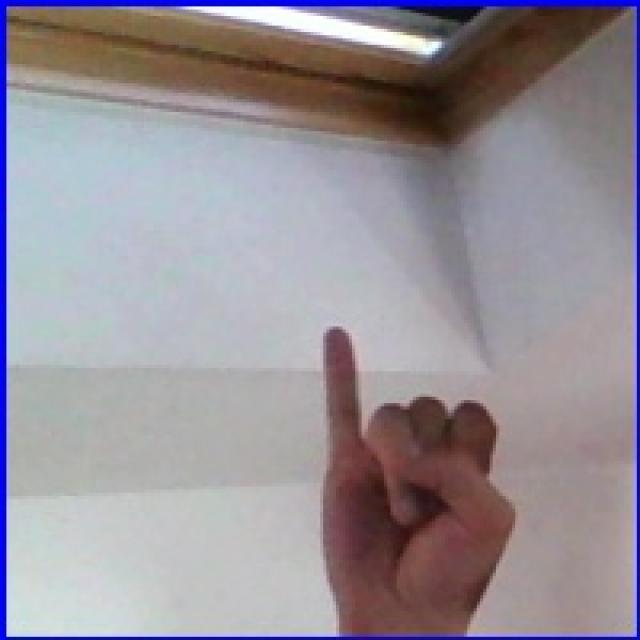Letra I: (291, 296, 529, 624)
